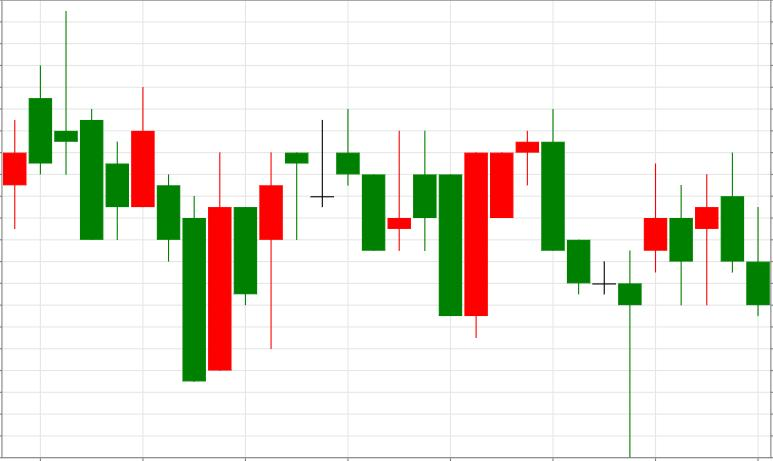bullish_engulfing_rise: (336, 107, 488, 337)
